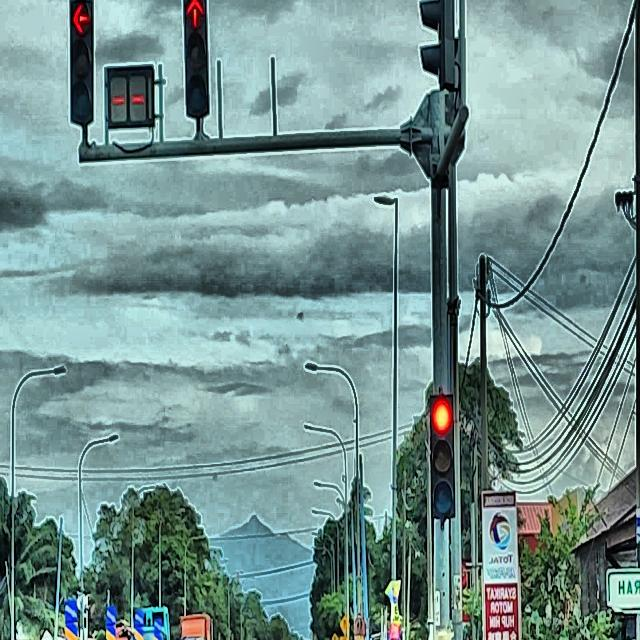red: (183, 0, 209, 115), (431, 393, 455, 516), (70, 0, 94, 122)
